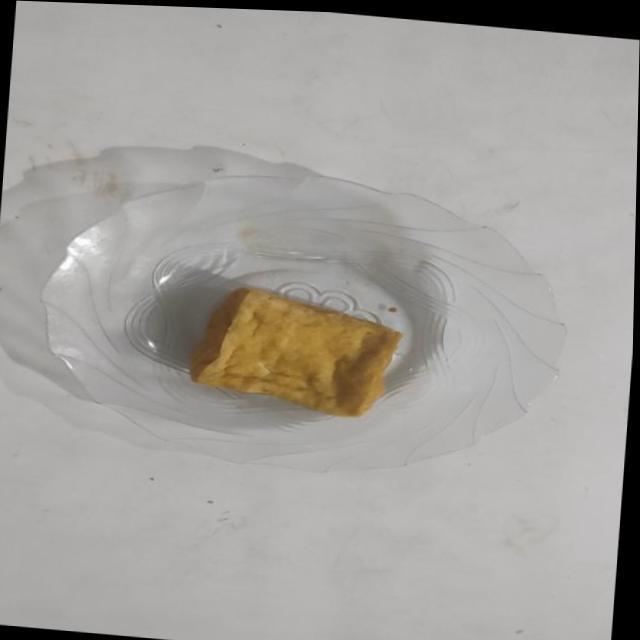tahu_goreng: (190, 288, 402, 418)
